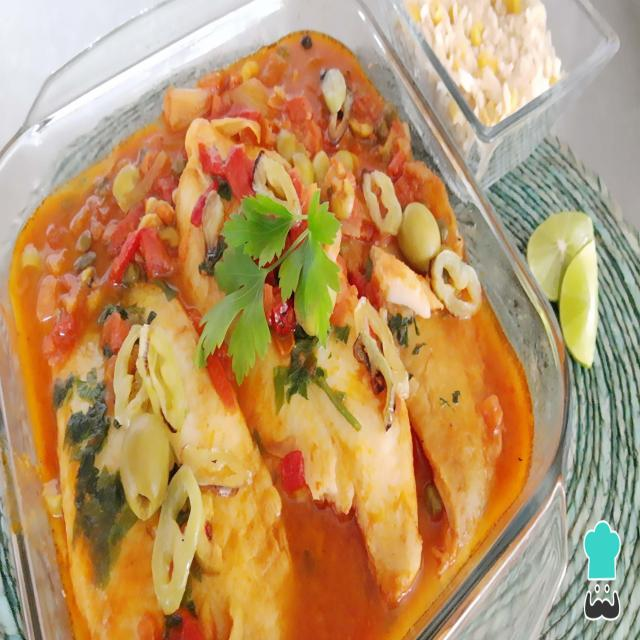pasta: (21, 99, 530, 604)
